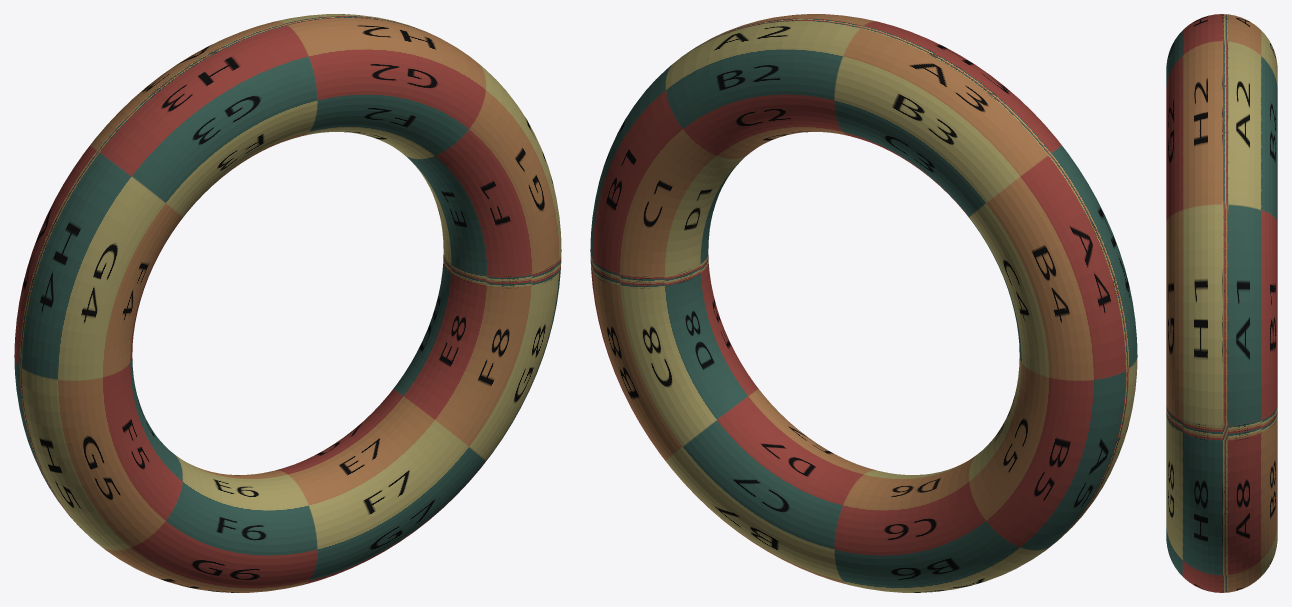
Rendered from texture_torus_R6_r4.glb.
3 views of the same model, side by side, from view 1: azimuth 30°, elevation 25°; view 2: azimuth 150°, elevation 25°; view 3: azimuth 270°, elevation 25° (orthographic). The views are drawn at different scales.
Visible parts, largest first — view 1: world; view 2: world; view 3: world.
Boxes of the visible parts, x1,y1,x2,y2 form: world: (14, 14, 561, 592); world: (590, 14, 1137, 592); world: (1166, 14, 1277, 592).
Bounding box in the file's own units: 28.89 × 28.89 × 5.54.
Materials: 1 (1 with a texture image).
